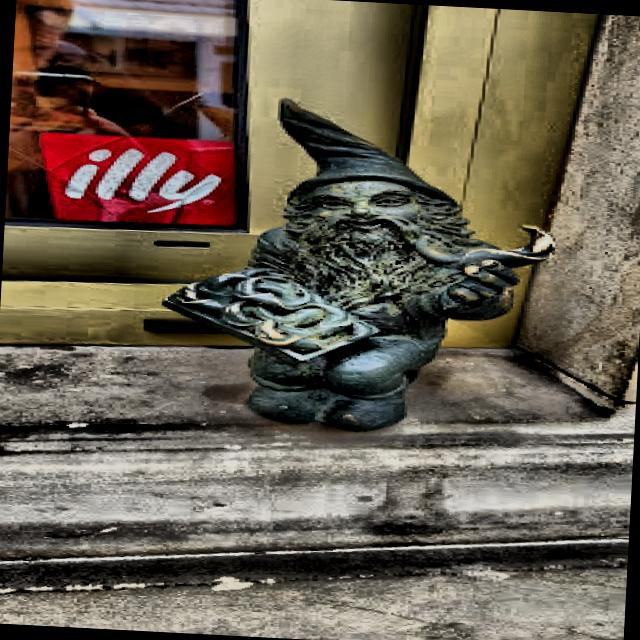Rogalik: (162, 101, 555, 436)
